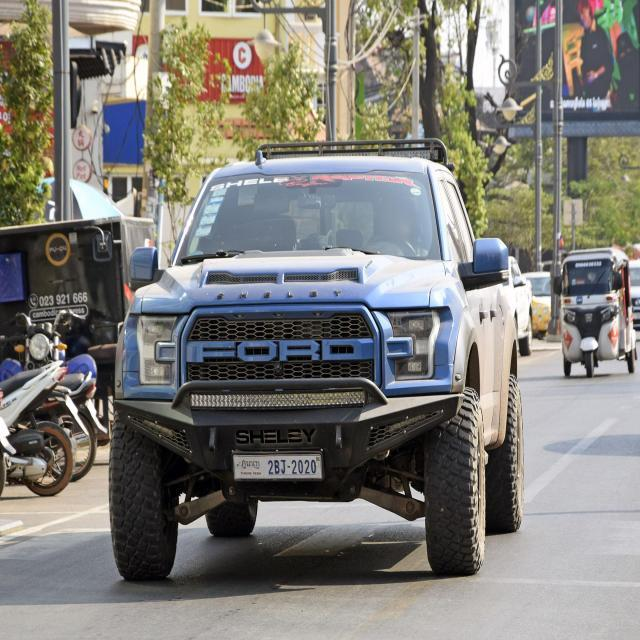Phnom_Penh: (241, 458, 260, 470)
